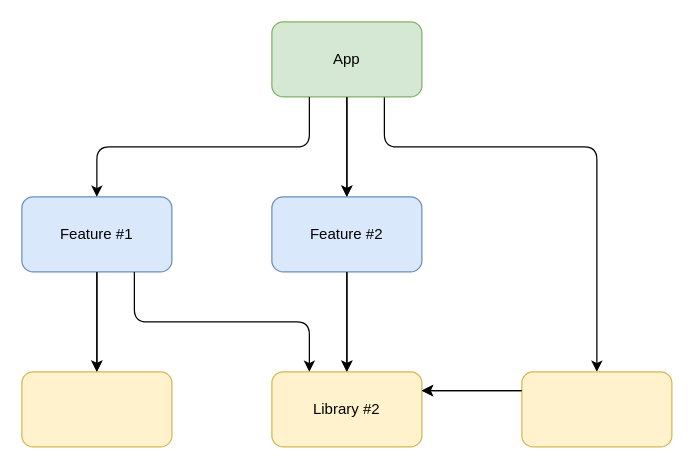
This 694x469 diagram has some shape labels left out. Each missing label, with the box of its shape:
Library #1: (21, 371, 172, 447)
Library #3: (521, 371, 672, 447)
